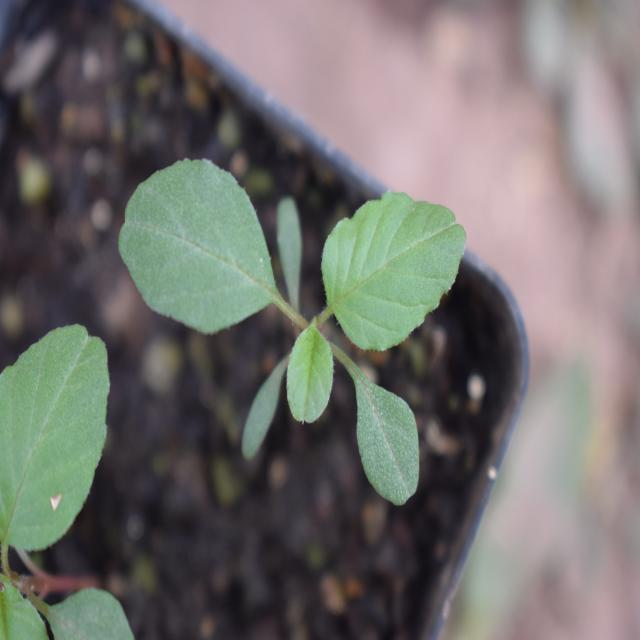pigweed: (111, 126, 462, 496)
